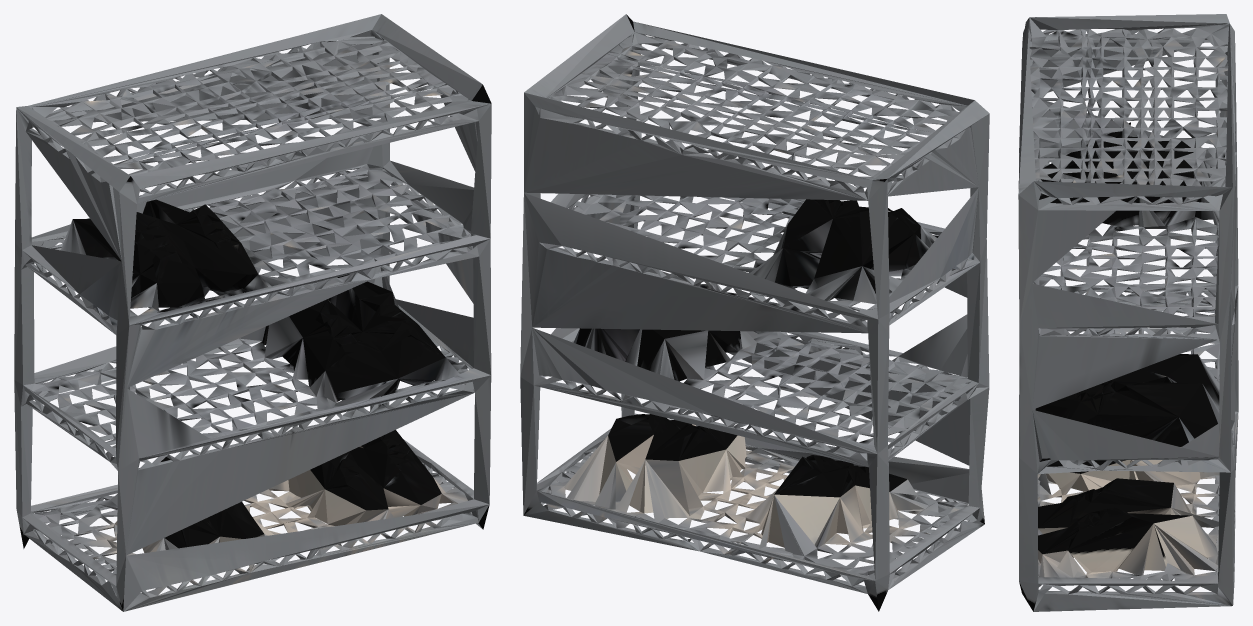
File: shoe_rack.glb
3 renders of one model, left to right at view 1: azimuth 30°, elevation 25°; view 2: azimuth 150°, elevation 25°; view 3: azimuth 270°, elevation 25°, orthographic. The views are drawn at different scales.
Parts seen in each view (by area): view 1: shoe_rack; view 2: shoe_rack; view 3: shoe_rack.
Boxes of the visible parts, bbox=[...] form: shoe_rack: bbox=[14, 14, 491, 611]; shoe_rack: bbox=[520, 14, 989, 611]; shoe_rack: bbox=[1018, 14, 1238, 611].
Bounding box in the file's own units: 1.04 × 1.2 × 0.5491.
Materials: 1 (1 with a texture image).
